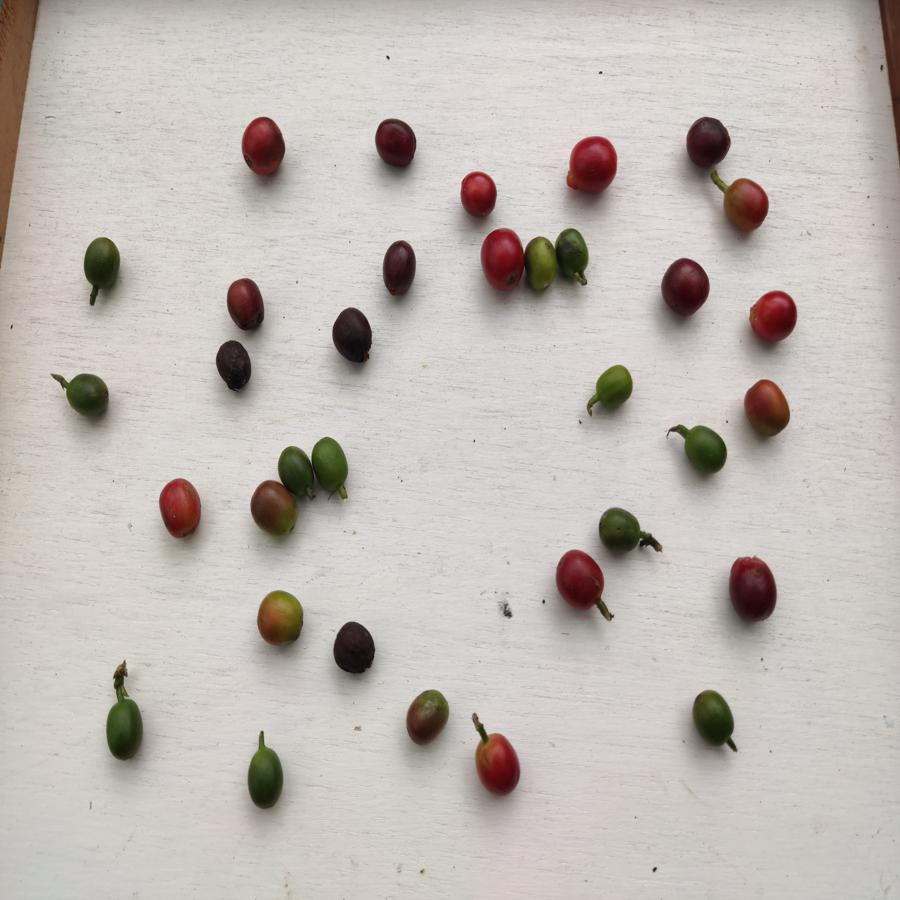Inmaduro: (692, 688, 740, 757), (586, 361, 640, 417), (678, 420, 731, 477), (103, 695, 145, 765), (243, 746, 286, 812), (312, 432, 353, 497), (80, 235, 124, 295), (595, 502, 643, 557), (60, 371, 112, 419), (552, 223, 591, 281), (277, 445, 317, 497), (524, 233, 557, 295)
Maduro: (472, 732, 525, 800), (157, 476, 206, 544), (555, 548, 606, 612), (565, 135, 618, 196), (749, 287, 801, 349), (480, 225, 524, 296), (238, 118, 290, 178), (724, 178, 772, 236), (458, 171, 499, 219)
Pinton: (744, 378, 796, 442), (254, 590, 308, 647), (405, 685, 452, 748), (247, 478, 298, 536)
Sobremaduro: (728, 555, 780, 628), (679, 111, 736, 169), (662, 256, 712, 320), (332, 618, 379, 678), (330, 305, 375, 366), (372, 118, 422, 169), (225, 276, 269, 333), (380, 239, 422, 295), (214, 338, 255, 393)
